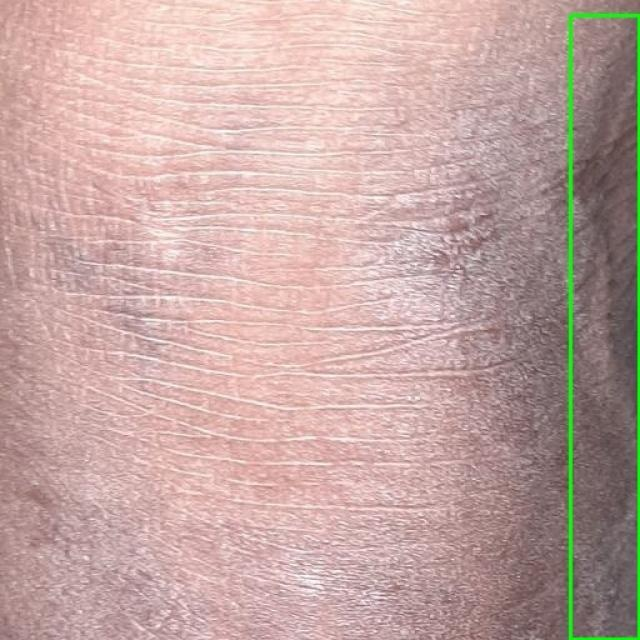Contact Dermatitis: (570, 15, 639, 639)
